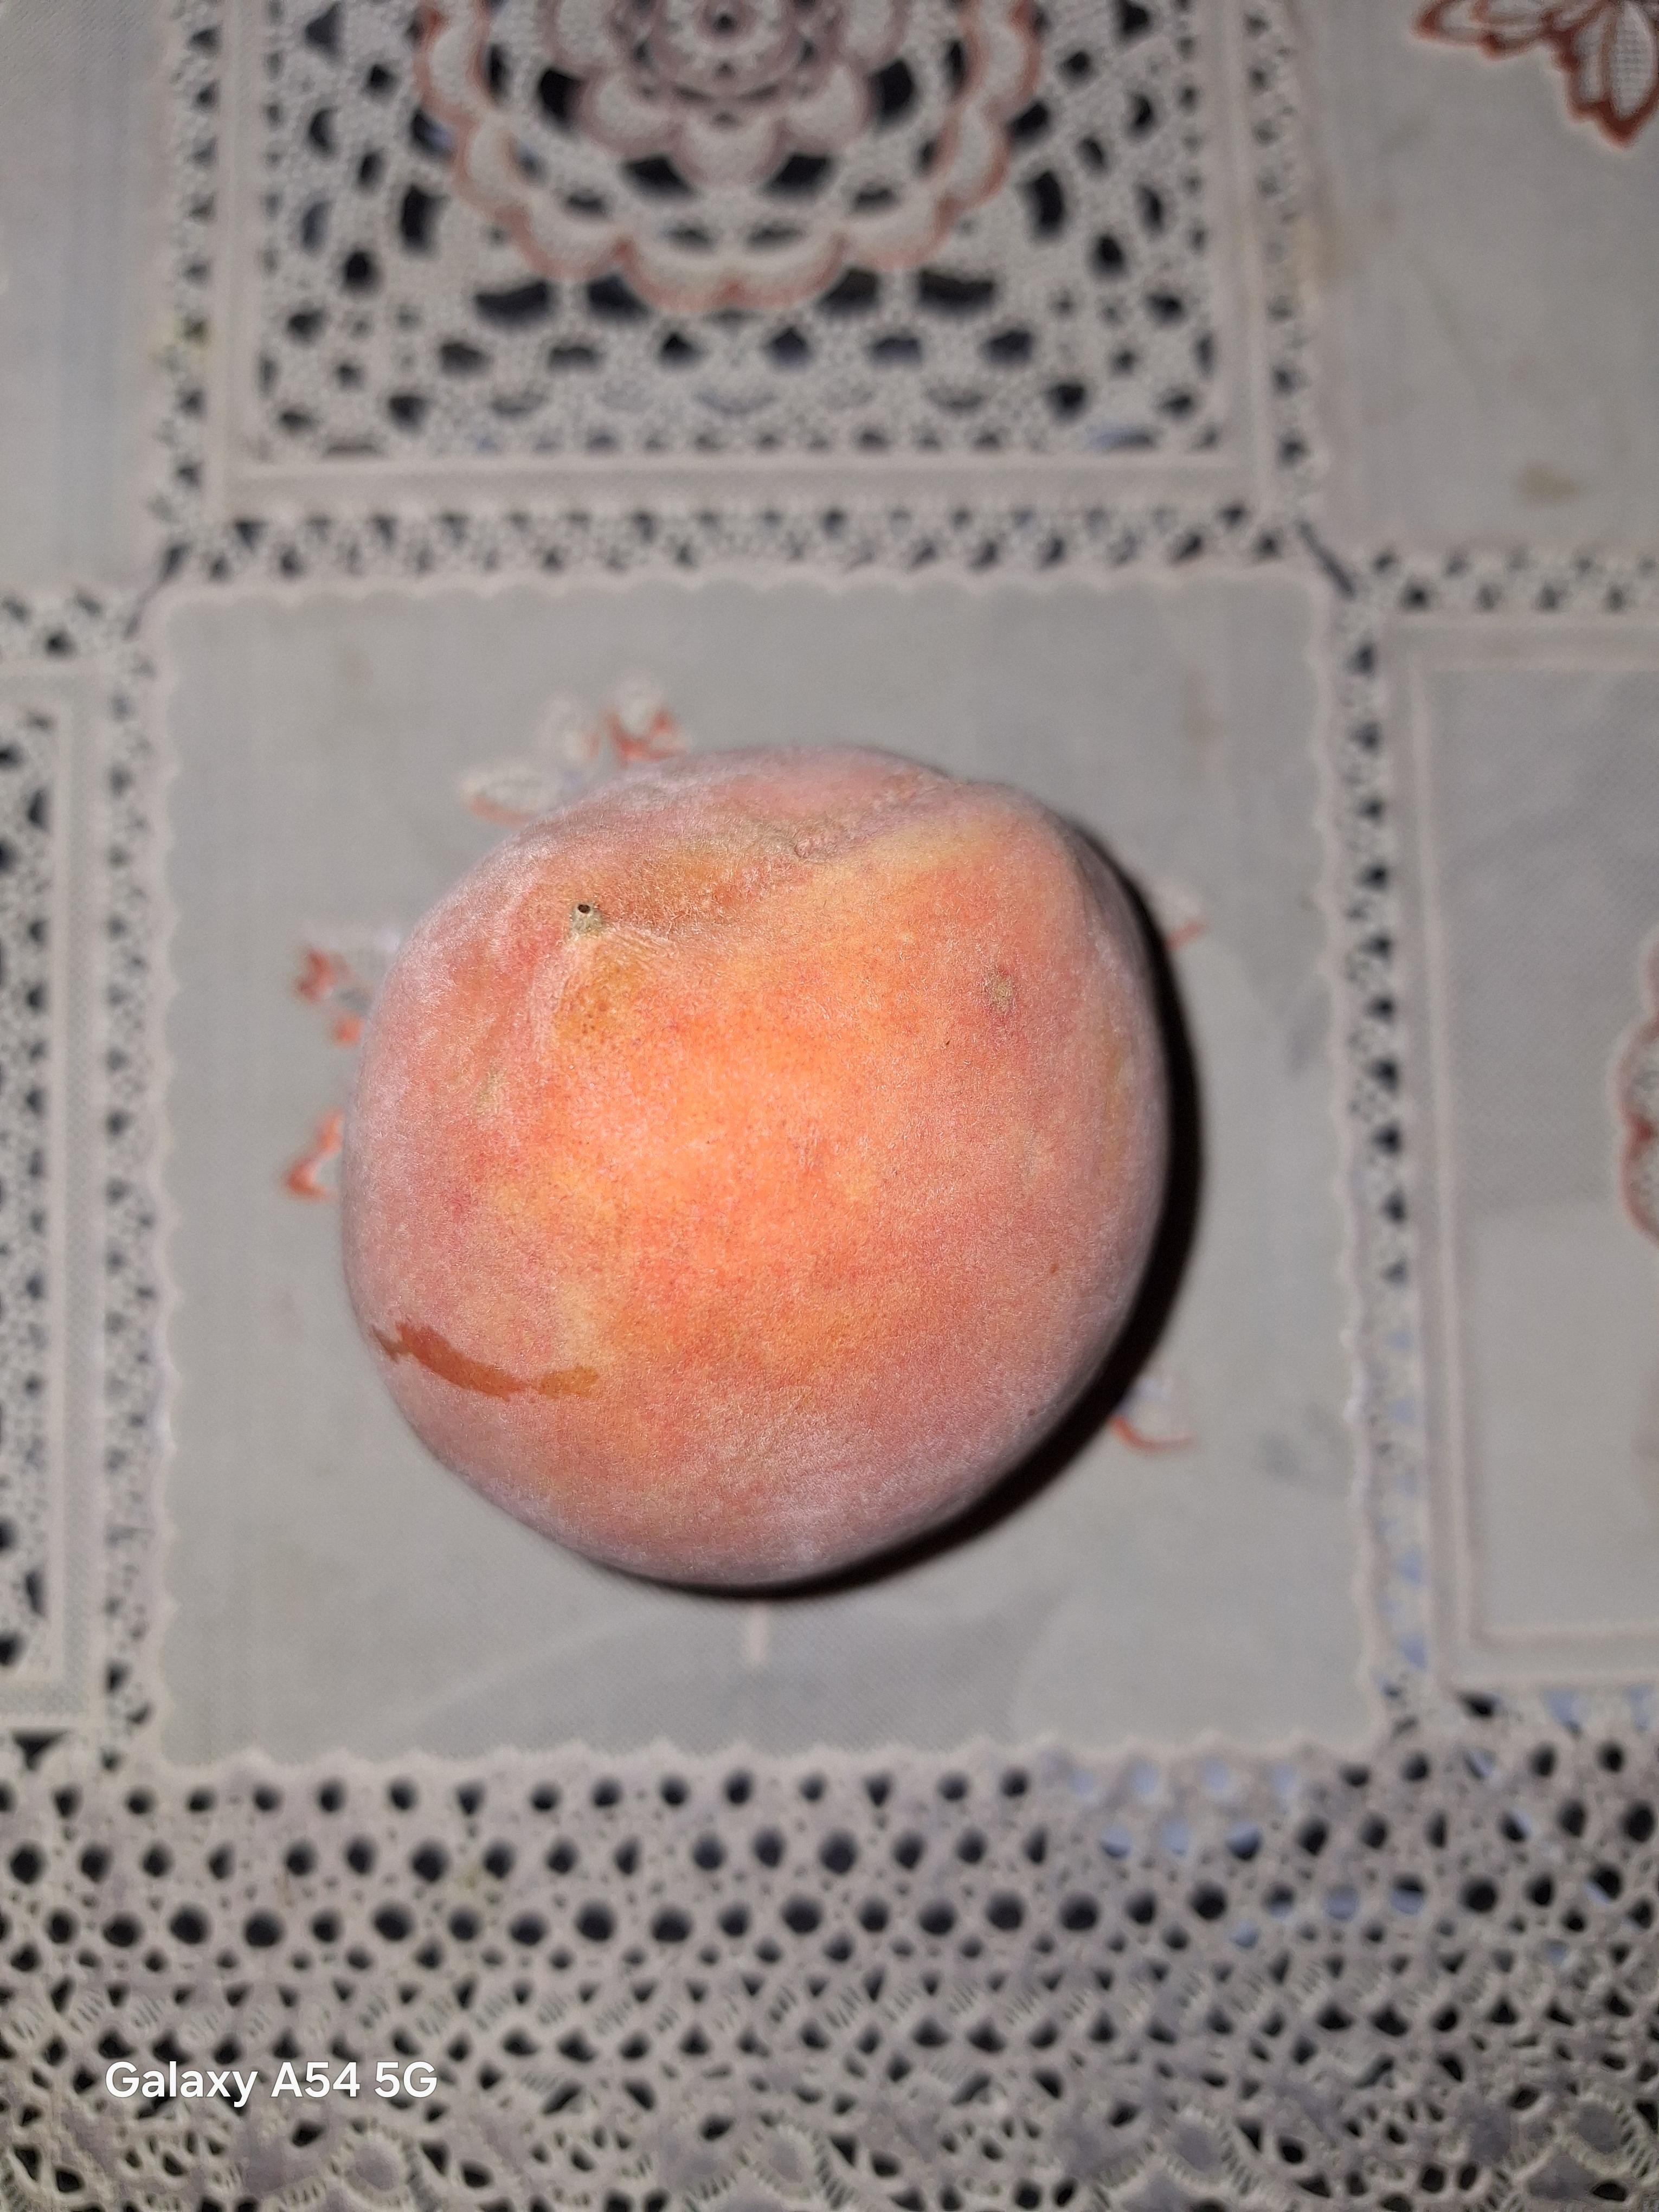non-mango: (331, 751, 1183, 1606)
